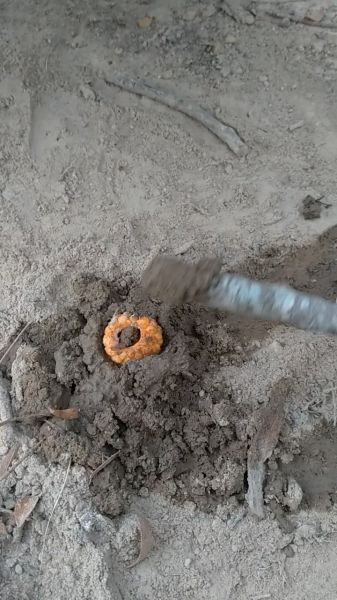eggs: (95, 305, 168, 367)
